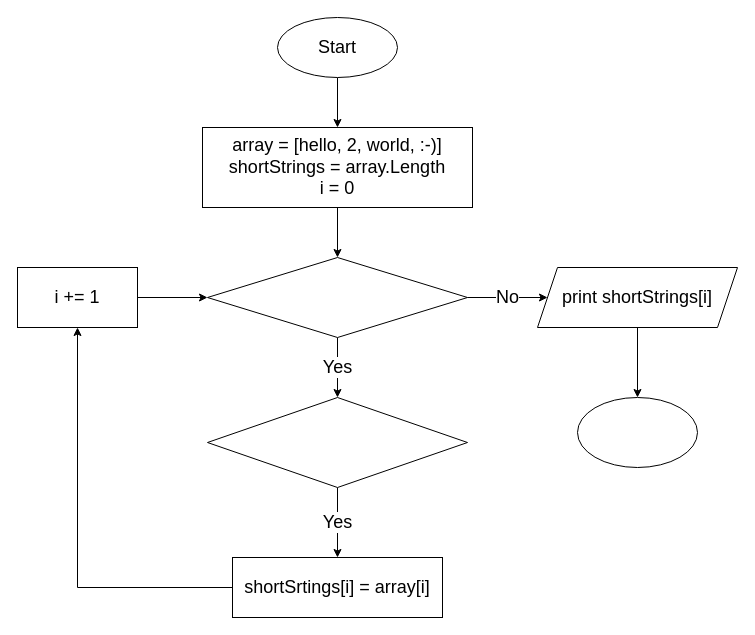
Image size: 755x635. Some labels were removed from this diagram. The shapes that lost their labels are listed below. From the top down, each one's centre as x and y in pixels, then its label:
At [337,297]: "i < array.Length".
At [337,442]: "array[i].Length <= 3".
At [637,432]: "End".
